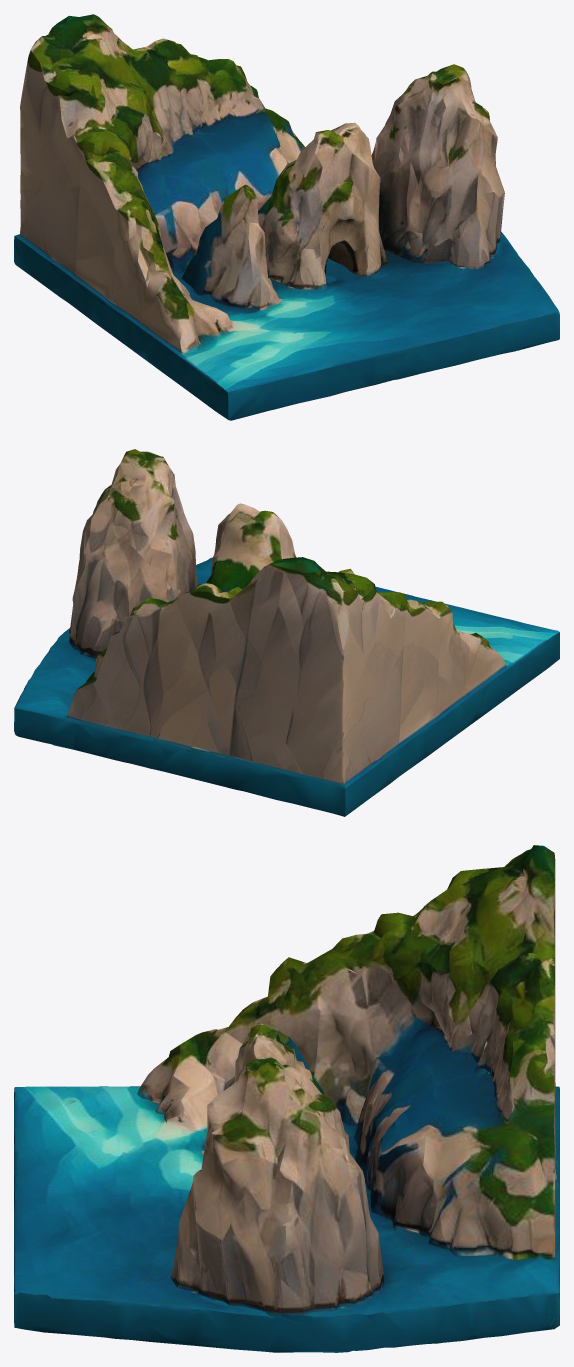
The model's file is faraglioni-capri.glb.
3 renders of one model, top to bottom at view 1: azimuth 30°, elevation 25°; view 2: azimuth 150°, elevation 25°; view 3: azimuth 270°, elevation 25°, orthographic. The views are drawn at different scales.
Visible parts, largest first — view 1: logan-textured.obj; view 2: logan-textured.obj; view 3: logan-textured.obj.
Boxes of the visible parts, <box> form: logan-textured.obj: <box>14,14,559,420</box>; logan-textured.obj: <box>14,449,559,816</box>; logan-textured.obj: <box>14,845,559,1352</box>.
Bounding box in the file's own units: 1 × 0.6215 × 0.9994.
Materials: 1 (1 with a texture image).
